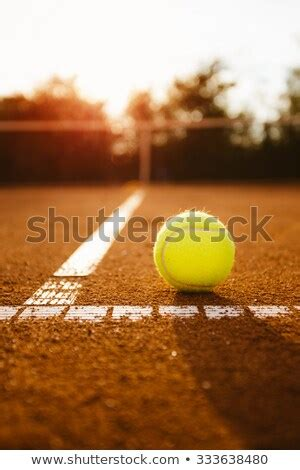tennis_ball: (153, 209, 236, 293)
